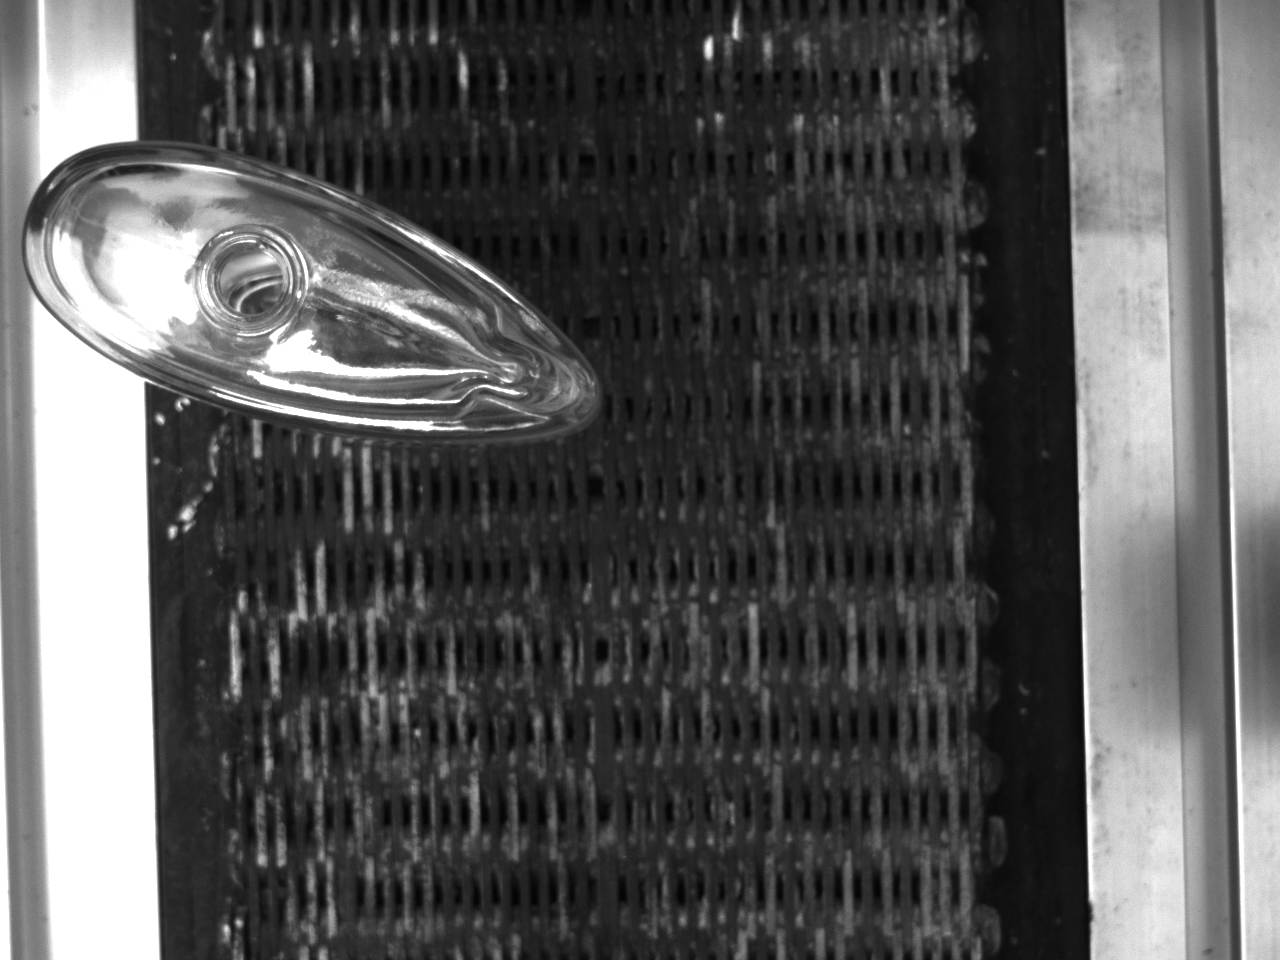bottleneck: (196, 224, 308, 336)
